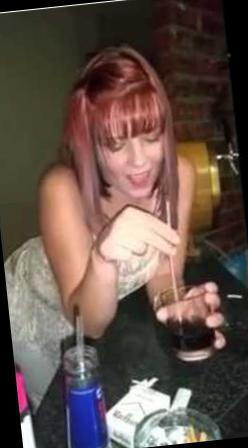Drunk: (96, 123, 167, 200)
